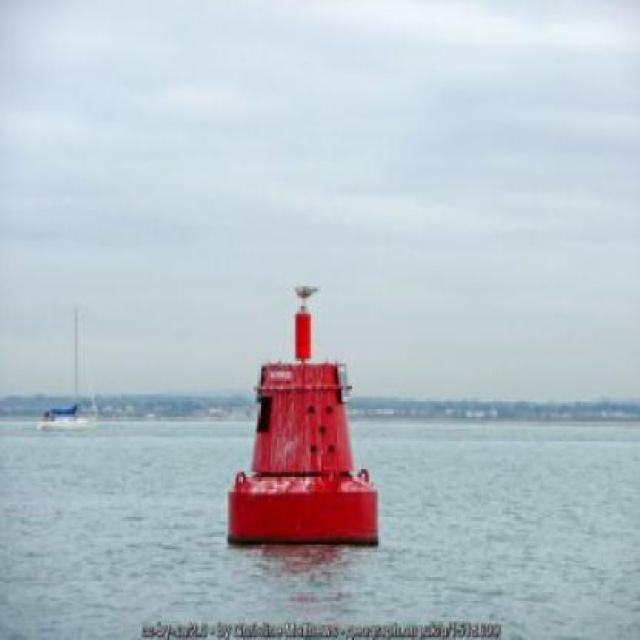buoy: (212, 274, 389, 551)
